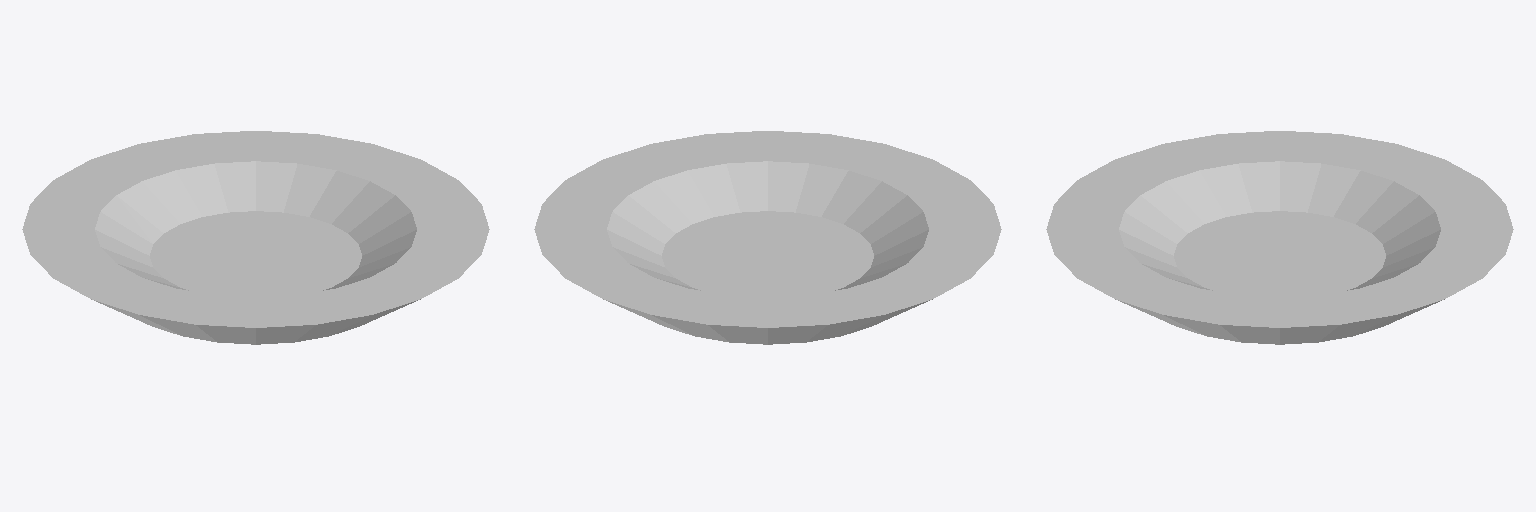
File: detailPlate.obj
The picture shows the model from 3 angles: view 1: azimuth 30°, elevation 25°; view 2: azimuth 150°, elevation 25°; view 3: azimuth 270°, elevation 25°; orthographic projection.
Parts seen in each view (by area): view 1: detailPlate; view 2: detailPlate; view 3: detailPlate.
Boxes of the visible parts, box(x1,y1,x2,y2) form: detailPlate: box(22, 131, 489, 344); detailPlate: box(534, 131, 1001, 344); detailPlate: box(1046, 131, 1513, 344).
Size of the model in its own units: 0.2535 by 0.0319 by 0.2535.